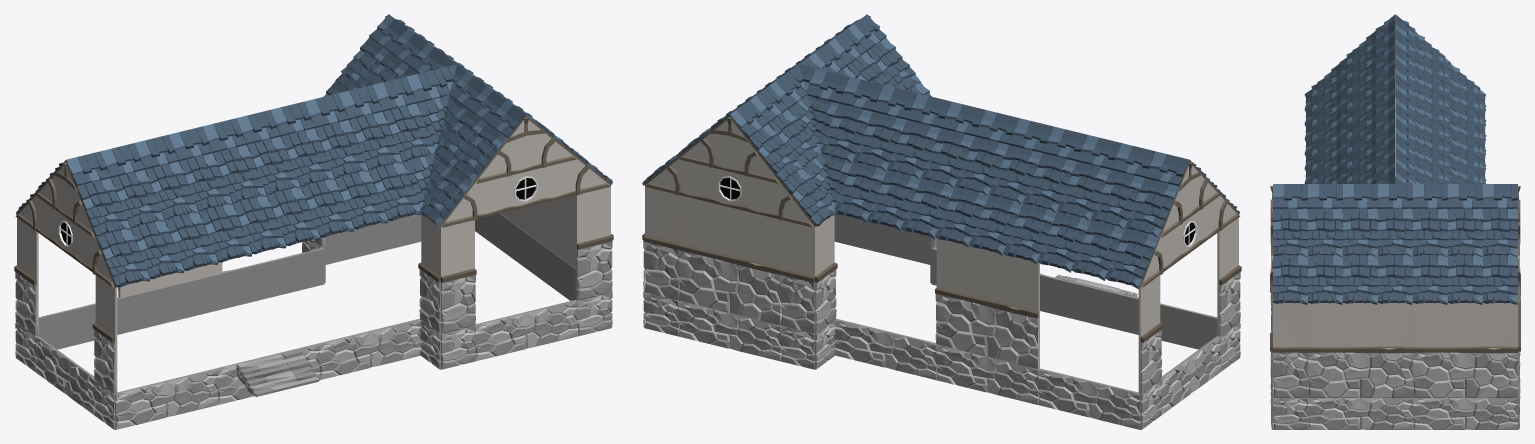
File: HOUSE_9_PARTS.fbx
3 renders of one model, left to right at view 1: azimuth 30°, elevation 25°; view 2: azimuth 150°, elevation 25°; view 3: azimuth 270°, elevation 25°, orthographic. The views are drawn at different scales.
Parts seen in each view (by area): view 1: FOUNDATION_01_4, FOUNDATION_01_6, FOUNDATION_01_5, FOUNDATION_01_3, WALL_04_32, FOUNDATION_01_8, WALL_04_31, STAIRS_03_2, WALL_04_38, WALL_04_37, WALL_01_12, FOUNDATION_01_10 (+67 smaller); view 2: WALL_01_10, WALL_01_11, FOUNDATION_01_7, FOUNDATION_01_5, FOUNDATION_01_10, FOUNDATION_01_8, WALL_04_35, FOUNDATION_01_2, WALL_04_34, WALL_04_37, WALL_04_38, FOUNDATION_01_6 (+63 smaller); view 3: WALL_01_12, WALL_01_13, FOUNDATION_01_11, FOUNDATION_01_12, WALL_04_33, ROOF_base_51, ROOF_base_47, ROOF_base_49, ROOF_base_53, ROOF_base_45, ROOF_base_43, ROOF_base_40 (+70 smaller).
Boxes of the visible parts, x1=… form: FOUNDATION_01_4: x1=115, y1=368, x2=218, y2=429; FOUNDATION_01_6: x1=474, y1=300, x2=577, y2=361; FOUNDATION_01_5: x1=222, y1=247, x2=324, y2=308; FOUNDATION_01_3: x1=318, y1=318, x2=421, y2=379; WALL_04_32: x1=575, y1=187, x2=612, y2=300; FOUNDATION_01_8: x1=120, y1=273, x2=222, y2=333; WALL_04_31: x1=439, y1=220, x2=476, y2=333; STAIRS_03_2: x1=236, y1=349, x2=319, y2=396; WALL_04_38: x1=92, y1=275, x2=117, y2=394; WALL_04_37: x1=14, y1=218, x2=38, y2=336; WALL_01_12: x1=530, y1=195, x2=575, y2=268; FOUNDATION_01_10: x1=339, y1=214, x2=421, y2=261; WALL_01_10: x1=935, y1=238, x2=1039, y2=369; WALL_01_11: x1=677, y1=195, x2=780, y2=325; FOUNDATION_01_7: x1=1037, y1=368, x2=1141, y2=429; FOUNDATION_01_5: x1=834, y1=318, x2=936, y2=379; FOUNDATION_01_10: x1=678, y1=301, x2=781, y2=361; FOUNDATION_01_8: x1=935, y1=344, x2=1038, y2=404; WALL_04_35: x1=779, y1=220, x2=816, y2=333; FOUNDATION_01_2: x1=1040, y1=273, x2=1137, y2=333; WALL_04_34: x1=643, y1=187, x2=678, y2=300; WALL_04_37: x1=1138, y1=275, x2=1163, y2=394; WALL_04_38: x1=1217, y1=218, x2=1241, y2=336; FOUNDATION_01_6: x1=834, y1=214, x2=916, y2=261; WALL_01_12: x1=1308, y1=303, x2=1412, y2=398; WALL_01_13: x1=1413, y1=303, x2=1517, y2=398; FOUNDATION_01_11: x1=1413, y1=398, x2=1517, y2=429; FOUNDATION_01_12: x1=1308, y1=398, x2=1412, y2=429; WALL_04_33: x1=1273, y1=303, x2=1307, y2=397; ROOF_base_51: x1=1447, y1=254, x2=1482, y2=304; ROOF_base_47: x1=1377, y1=254, x2=1412, y2=304; ROOF_base_49: x1=1412, y1=254, x2=1447, y2=304; ROOF_base_53: x1=1482, y1=254, x2=1517, y2=304; ROOF_base_45: x1=1342, y1=254, x2=1377, y2=304; ROOF_base_43: x1=1307, y1=254, x2=1342, y2=304; ROOF_base_40: x1=1272, y1=254, x2=1307, y2=304.
Bounding box in the file's own units: 1419 × 659 × 717.
